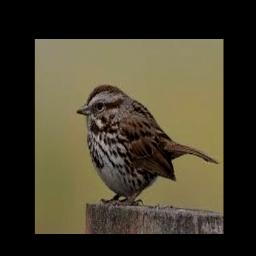Sparrow: (77, 85, 218, 206)
